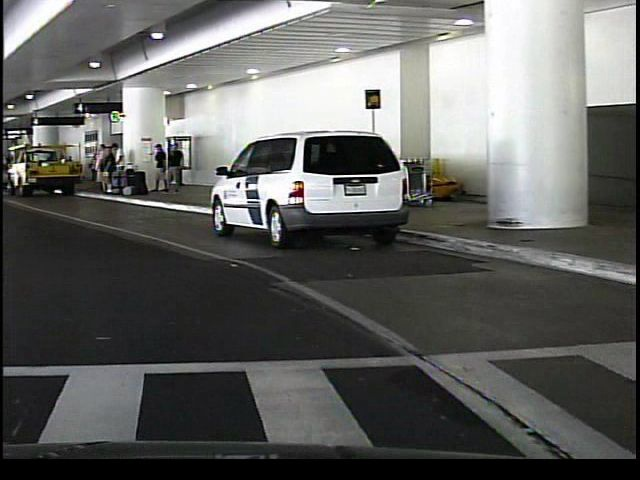person: (164, 139, 182, 194), (90, 140, 105, 195)
